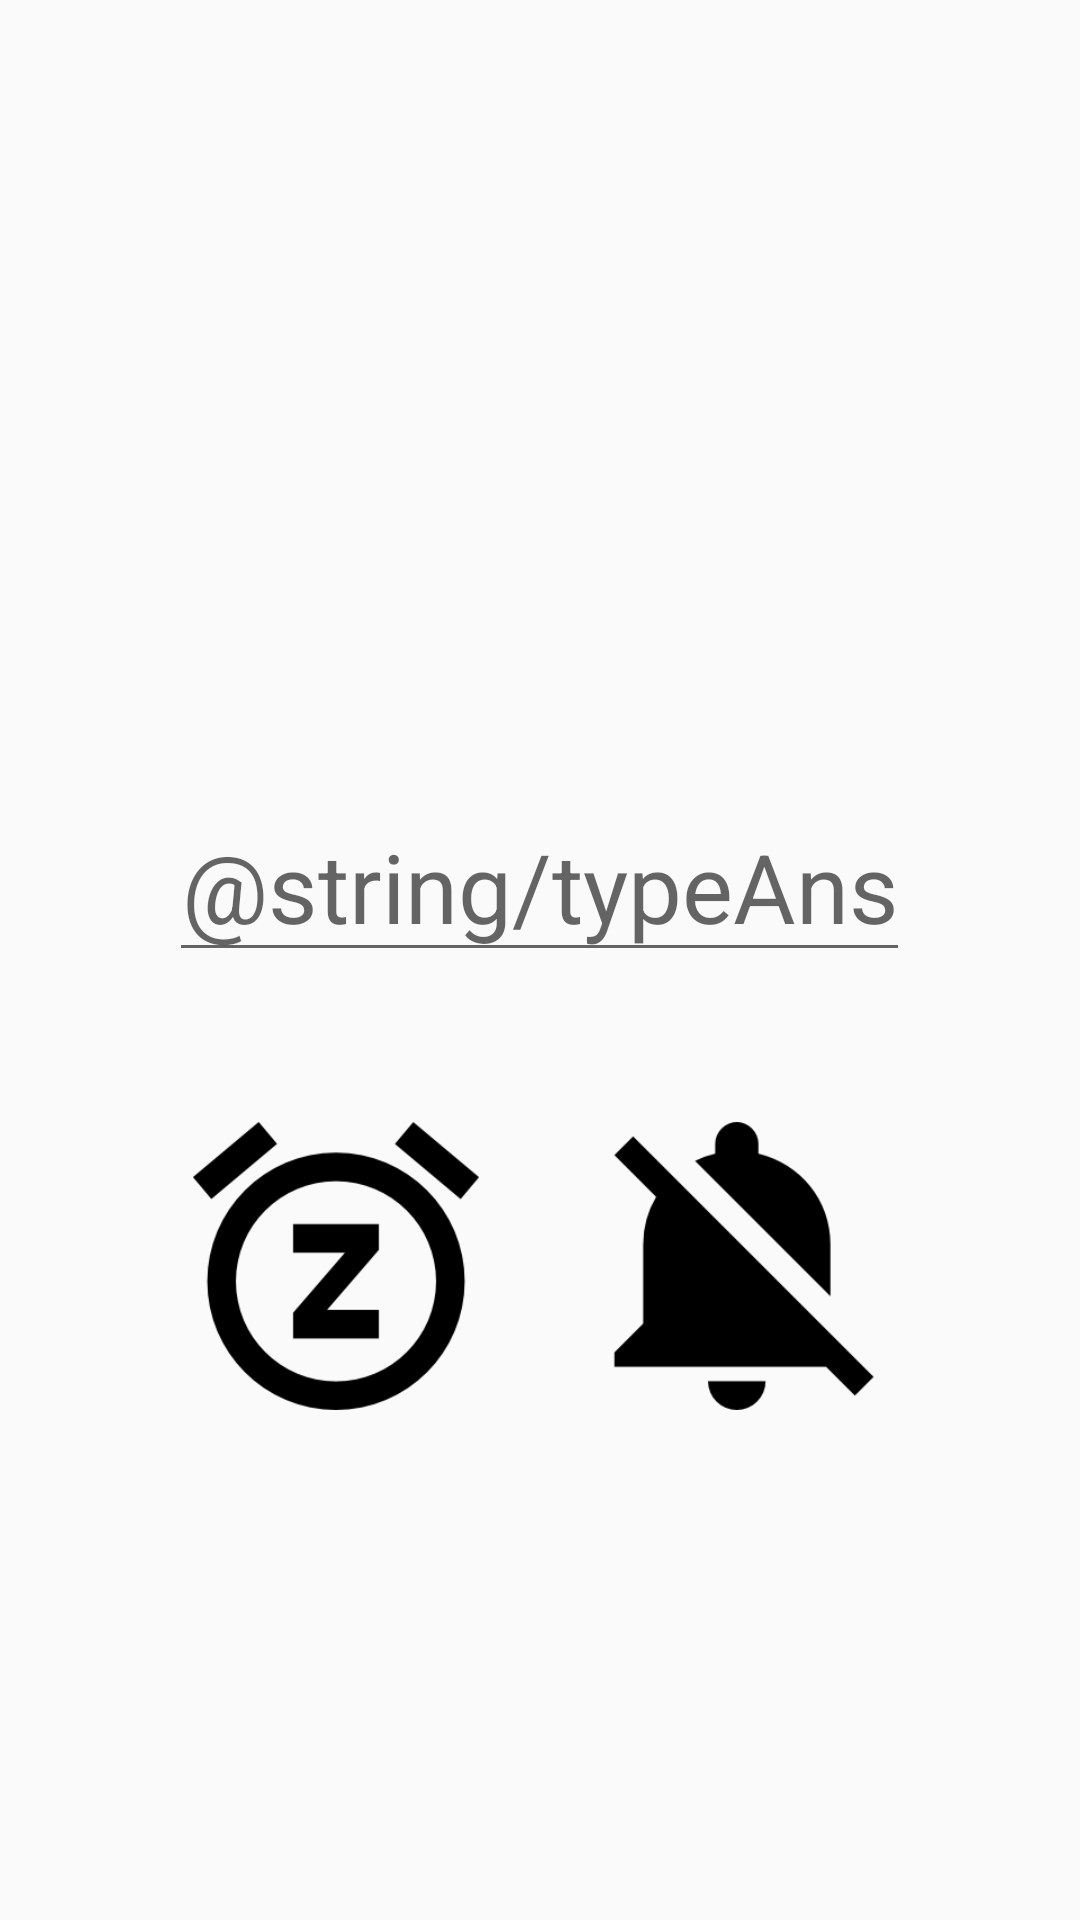

Screen size 1080 x 1920. Icon name, then its center in pixels as (x=x, y=y):
off: (x=744, y=1266)
snooze: (x=336, y=1266)
